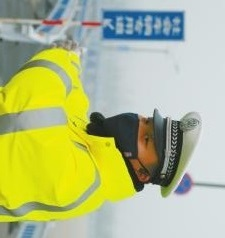person: (2, 39, 203, 228)
